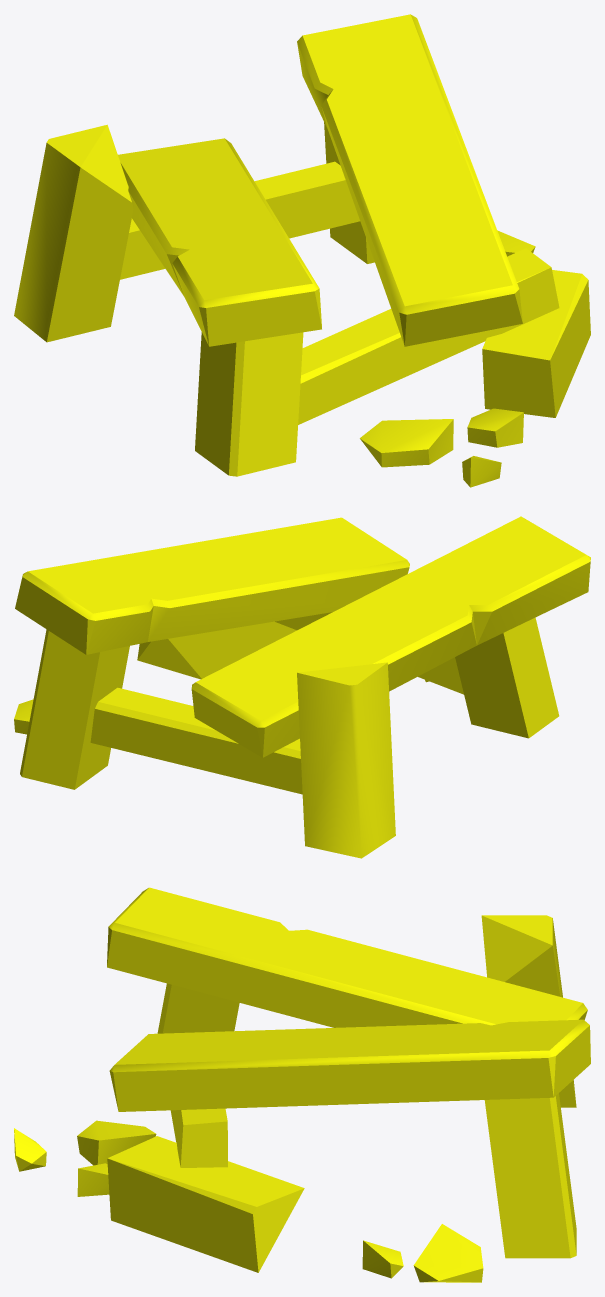
The model's file is kaykit-table-medium-broken.glb.
3 renders of one model, top to bottom at view 1: azimuth 30°, elevation 25°; view 2: azimuth 150°, elevation 25°; view 3: azimuth 270°, elevation 25°, orthographic. The views are drawn at different scales.
Visible parts, largest first — view 1: table_medium_broken; view 2: table_medium_broken; view 3: table_medium_broken.
Part boxes in pixels (x1,y1,x2,y2): table_medium_broken: (14, 14, 590, 487); table_medium_broken: (14, 516, 590, 858); table_medium_broken: (14, 887, 590, 1282).
Bounding box in the file's own units: 2.28 × 0.9718 × 2.43.
